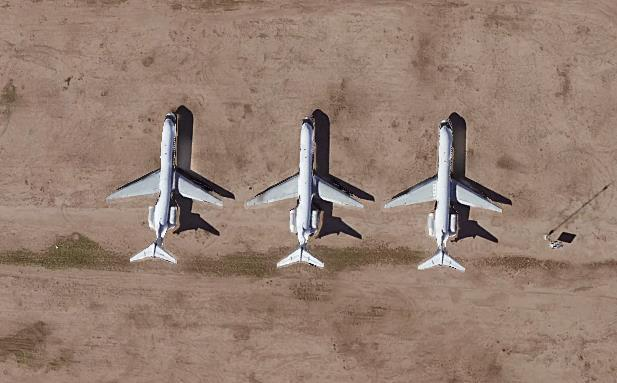plane: (105, 104, 228, 271), (378, 115, 506, 274), (252, 110, 366, 273)
